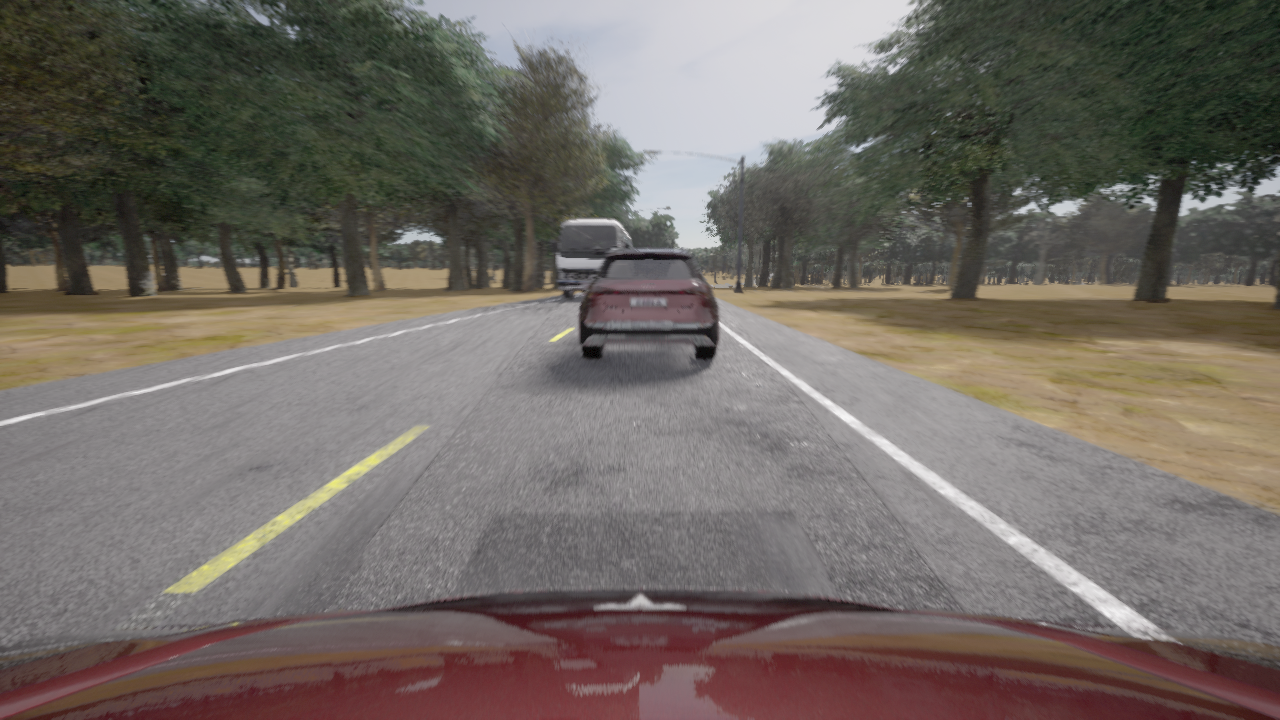cyclist: (0, 588, 1279, 719), (579, 245, 718, 359), (550, 218, 632, 298)
